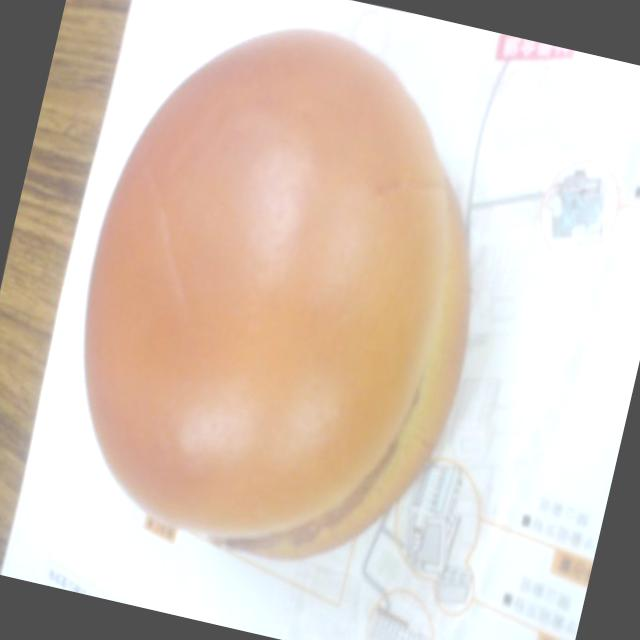Hamburger: (17, 0, 555, 619)
